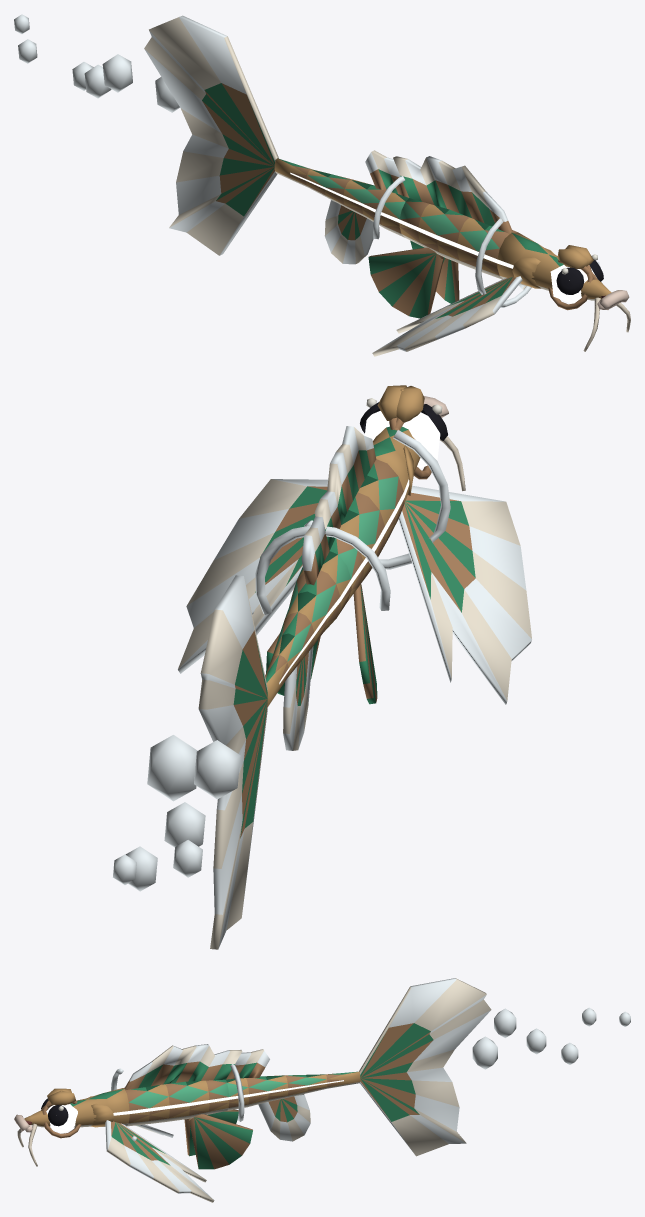
Rendered from carp-white-water.glb.
The picture shows the model from 3 angles, top to bottom: view 1: azimuth 30°, elevation 25°; view 2: azimuth 150°, elevation 25°; view 3: azimuth 270°, elevation 25°; orthographic projection. The views are drawn at different scales.
Parts seen in each view (by area): view 1: wag_body_2, wag_body_0, wag_body_1, carp_head, glide_fin_r, spray, blink_eye_r, eddy_0, pulse_gill_r; view 2: glide_fin_r, wag_body_2, glide_fin_l, wag_body_0, wag_body_1, spray, carp_head, eddy_1, eddy_0, blink_eye_r; view 3: wag_body_2, wag_body_0, wag_body_1, glide_fin_l, carp_head, spray, blink_eye_l, pulse_gill_l, eddy_1.
Boxes of the visible parts, left/top/right/bottom form: wag_body_2: left=144, top=15, right=278, bottom=255; wag_body_0: left=368, top=156, right=517, bottom=318; wag_body_1: left=274, top=150, right=409, bottom=264; carp_head: left=497, top=232, right=629, bottom=310; glide_fin_r: left=372, top=276, right=522, bottom=356; spray: left=14, top=14, right=179, bottom=112; blink_eye_r: left=550, top=265, right=587, bottom=303; eddy_0: left=475, top=218, right=531, bottom=307; pulse_gill_r: left=512, top=257, right=540, bottom=288; glide_fin_r: left=398, top=485, right=531, bottom=704; wag_body_2: left=198, top=575, right=267, bottom=949; glide_fin_l: left=178, top=479, right=328, bottom=673; wag_body_0: left=266, top=426, right=404, bottom=704; wag_body_1: left=265, top=516, right=351, bottom=750; spray: left=113, top=735, right=240, bottom=891; carp_head: left=373, top=385, right=448, bottom=503; eddy_1: left=255, top=525, right=390, bottom=614; eddy_0: left=304, top=430, right=450, bottom=569; blink_eye_r: left=402, top=404, right=447, bottom=468; wag_body_2: left=359, top=978, right=491, bottom=1156; wag_body_0: left=123, top=1044, right=252, bottom=1169; wag_body_1: left=226, top=1049, right=360, bottom=1141; glide_fin_l: left=105, top=1120, right=214, bottom=1202; carp_head: left=14, top=1088, right=129, bottom=1138; spray: left=472, top=1007, right=630, bottom=1069; blink_eye_l: left=46, top=1104, right=77, bottom=1133; pulse_gill_l: left=91, top=1103, right=114, bottom=1127; eddy_1: left=230, top=1063, right=244, bottom=1121.
Size of the model in its own units: 0.4884 by 0.3773 by 1.23.
